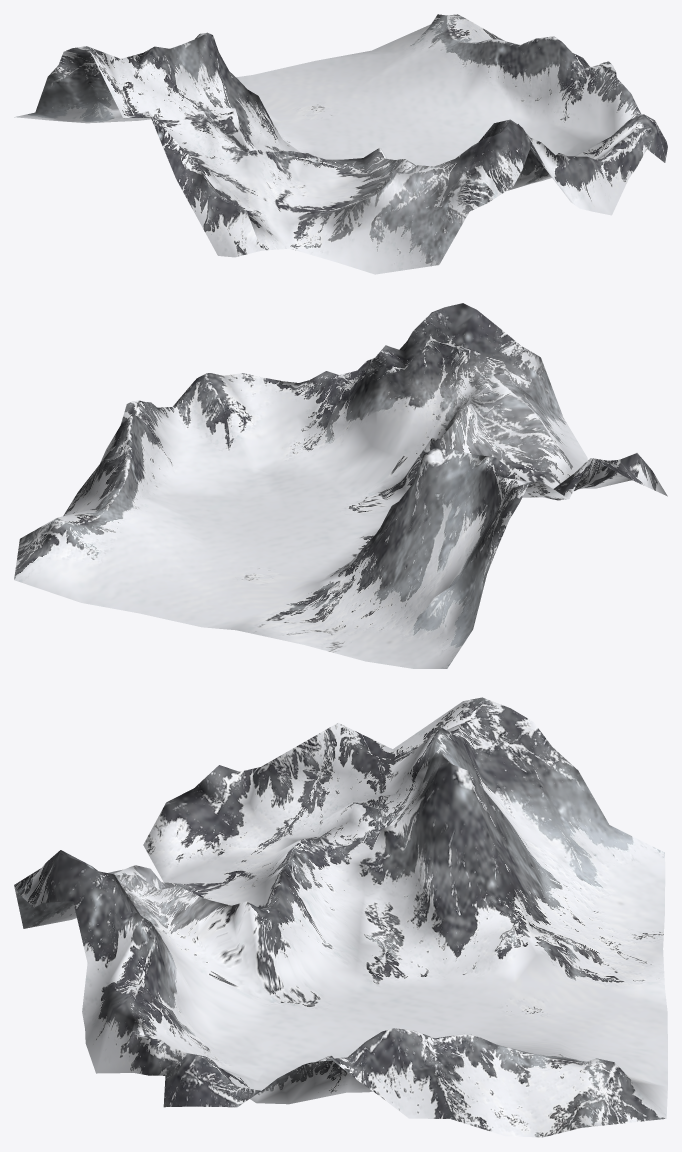
Rendered from SM_Terrain.fbx.
The picture shows the model from 3 angles, top to bottom: view 1: azimuth 30°, elevation 25°; view 2: azimuth 150°, elevation 25°; view 3: azimuth 270°, elevation 25°; orthographic projection. The views are drawn at different scales.
Parts seen in each view (by area): view 1: Plane_Plane.005; view 2: Plane_Plane.005; view 3: Plane_Plane.005.
Boxes of the visible parts, box(x1,y1,x2,y2) form: Plane_Plane.005: box(14, 14, 667, 274); Plane_Plane.005: box(14, 303, 667, 668); Plane_Plane.005: box(14, 697, 667, 1137).
Bounding box in the file's own units: 9069 × 2808 × 9315.
Materials: 1 (1 with a texture image).
